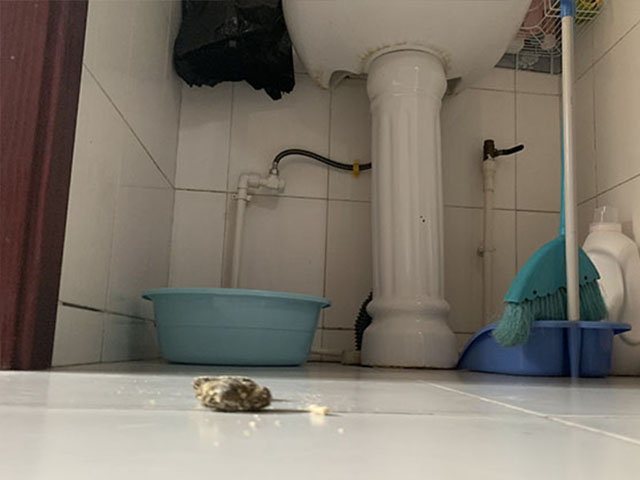feces: (191, 372, 276, 414)
